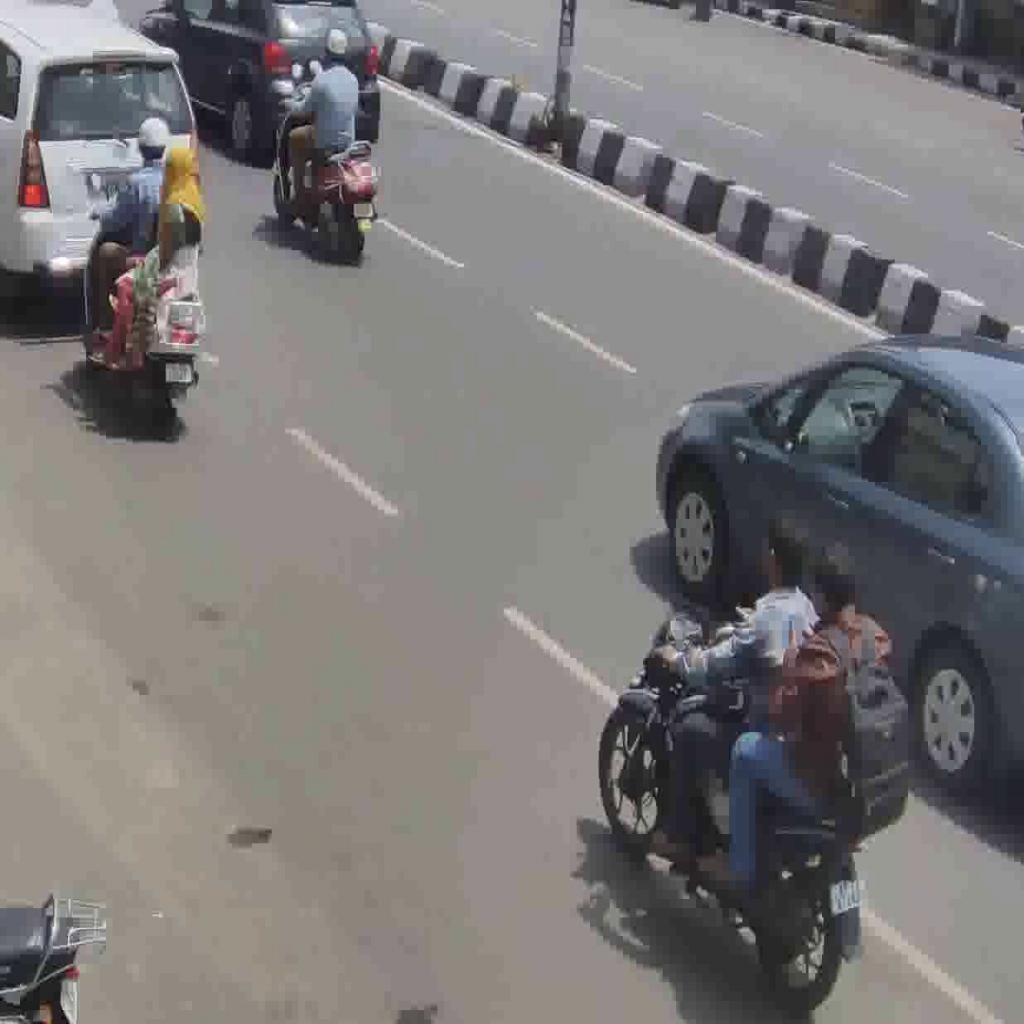bike: (597, 596, 874, 1020), (80, 175, 208, 441), (271, 81, 381, 264)
helmet: (136, 117, 170, 164)
lisc: (829, 872, 863, 916), (166, 362, 192, 383), (354, 202, 373, 218)
no_helmet: (811, 534, 861, 620), (759, 508, 809, 592), (162, 144, 196, 189), (323, 28, 348, 66)
rider: (693, 533, 911, 902), (650, 508, 818, 865), (84, 144, 205, 376), (88, 116, 177, 340), (277, 28, 359, 203)
